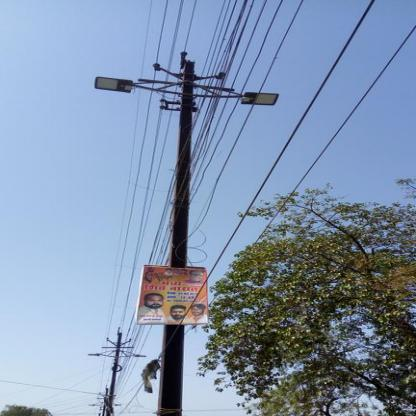Electrical Pole: (94, 49, 277, 415)
